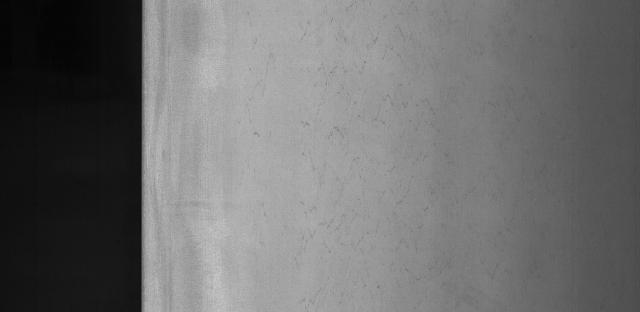silk_spot: (274, 17, 442, 211)
